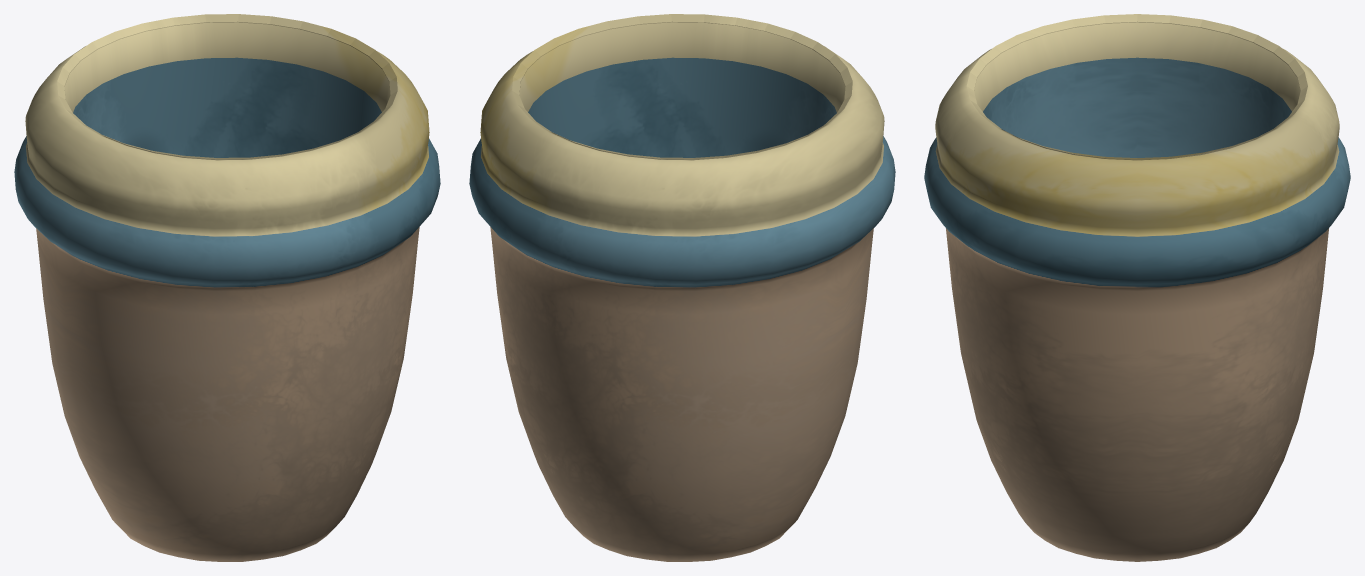
Rendered from EgyptianVaseOpen.fbx.
The picture shows the model from 3 angles, left to right: view 1: azimuth 30°, elevation 25°; view 2: azimuth 150°, elevation 25°; view 3: azimuth 270°, elevation 25°; orthographic projection.
Parts seen in each view (by area): view 1: Circle.001; view 2: Circle.001; view 3: Circle.001.
Part boxes in pixels (x1,y1,x2,y2): Circle.001: [14, 14, 440, 561]; Circle.001: [469, 14, 895, 561]; Circle.001: [924, 14, 1350, 561].
Bounding box in the file's own units: 24.52 × 27.54 × 24.52.
2 materials, 2 textured.
